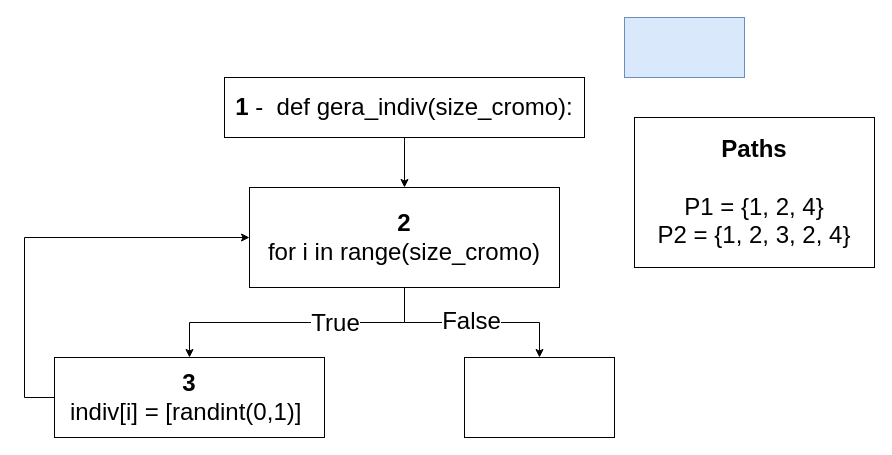
Image size: 892x455. Some labels were removed from this diagram. Each missing label, with the centre of its shape:
"4 return indiv" goes at point 539,397.
"Vg = 2" goes at point 684,47.
